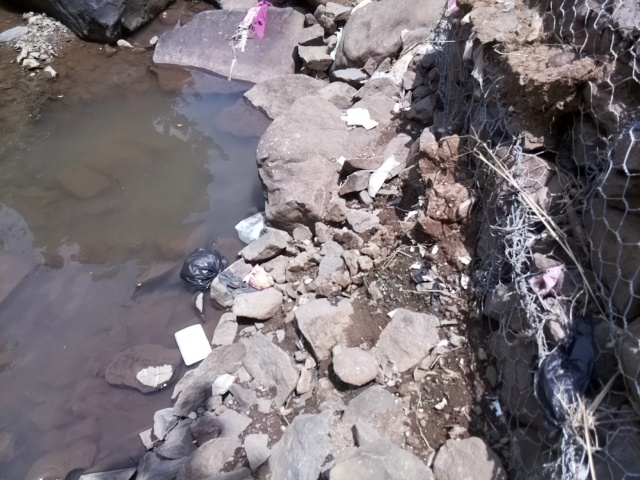Sampah_Plastik: (180, 245, 229, 292), (233, 1, 271, 60)
Sampah_Styrofoam: (173, 322, 215, 370), (342, 103, 380, 134)
